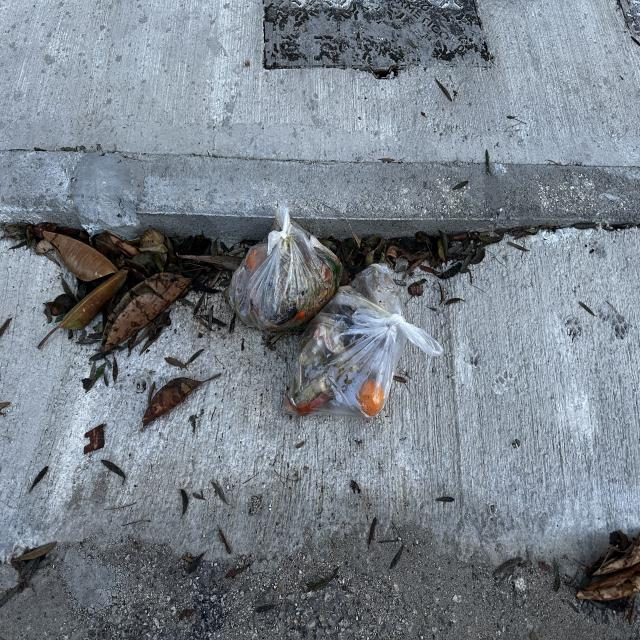Organic Waste -White Bags-: (229, 205, 443, 418)
